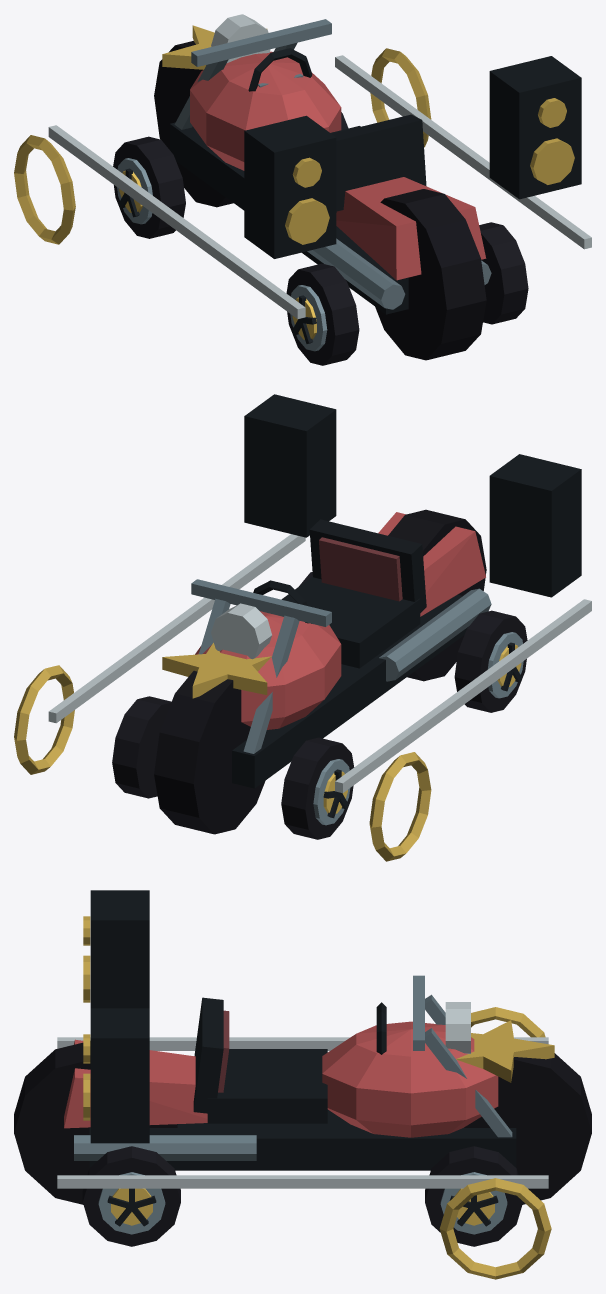
Rendered from kart.glb.
3 renders of one model, top to bottom at view 1: azimuth 30°, elevation 25°; view 2: azimuth 150°, elevation 25°; view 3: azimuth 270°, elevation 25°, orthographic.
Visible parts, largest first — view 1: identity-motorbike-motorbike-tank-and-fork, identity-motorbike-motif-speakers, identity-motorbike-motif-neon, identity-motorbike-driver-cockpit, wheel-rear-left, wheel-front-left, wheel-rear-right, identity-motorbike-motif-star; view 2: identity-motorbike-motorbike-tank-and-fork, identity-motorbike-motif-speakers, identity-motorbike-motif-neon, identity-motorbike-driver-cockpit, wheel-front-left, wheel-rear-left, wheel-front-right, identity-motorbike-motif-star; view 3: identity-motorbike-motorbike-tank-and-fork, identity-motorbike-motif-speakers, identity-motorbike-motif-neon, identity-motorbike-driver-cockpit, wheel-rear-right, wheel-front-right, identity-motorbike-motif-star.
Boxes of the visible parts, box(x1,y1,x2,y2) form: identity-motorbike-motorbike-tank-and-fork: box(154, 14, 491, 360); identity-motorbike-motif-speakers: box(244, 56, 581, 258); identity-motorbike-motif-neon: box(14, 48, 591, 318); identity-motorbike-driver-cockpit: box(248, 48, 426, 212); wheel-rear-left: box(286, 263, 359, 365); wheel-front-left: box(113, 136, 185, 238); wheel-rear-right: box(479, 222, 528, 324); identity-motorbike-motif-star: box(162, 25, 267, 69); identity-motorbike-motorbike-tank-and-fork: box(154, 509, 491, 834); identity-motorbike-motif-speakers: box(244, 394, 581, 597); identity-motorbike-motif-neon: box(14, 534, 591, 861); identity-motorbike-driver-cockpit: box(253, 519, 426, 668); wheel-front-left: box(281, 737, 354, 839); wheel-rear-left: box(454, 610, 527, 712); wheel-front-right: box(112, 696, 171, 798); identity-motorbike-motif-star: box(162, 642, 271, 698); identity-motorbike-motorbike-tank-and-fork: box(14, 975, 591, 1204); identity-motorbike-motif-speakers: box(83, 890, 149, 1143); identity-motorbike-motif-neon: box(57, 1007, 551, 1279); identity-motorbike-driver-cockpit: box(193, 997, 386, 1123); wheel-rear-right: box(82, 1146, 180, 1246); wheel-front-right: box(425, 1146, 522, 1246); identity-motorbike-motif-star: box(456, 1020, 554, 1082).
Bounding box in the file's own units: 2.13 × 1.33 × 2.94.
